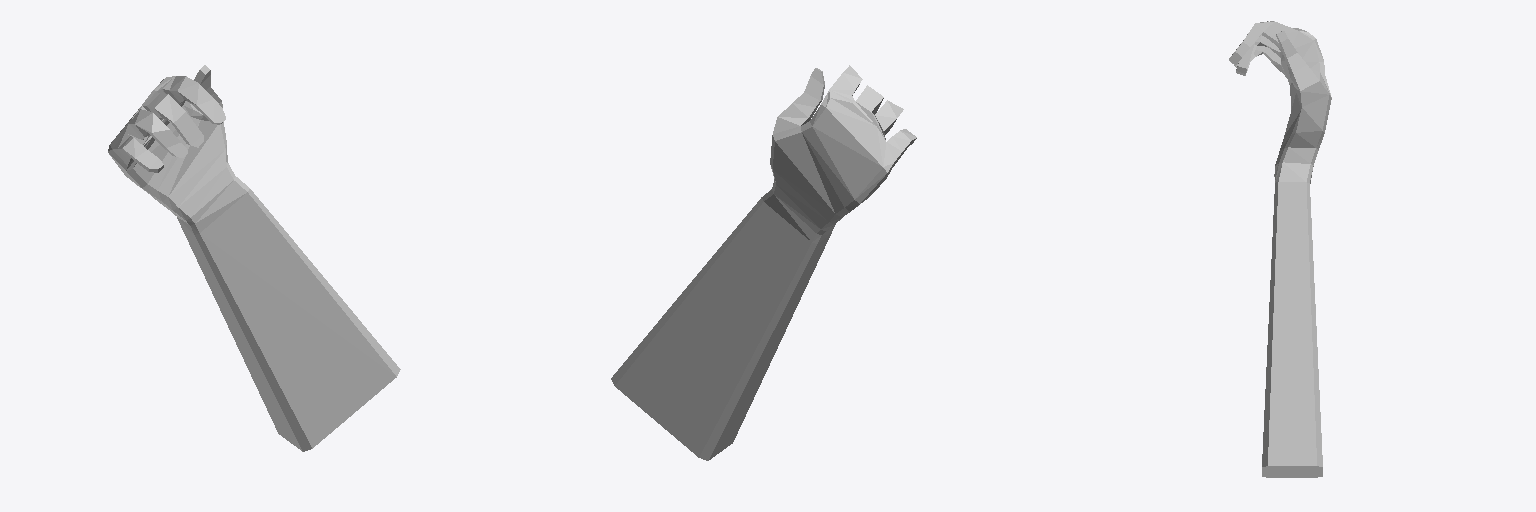
The model's file is hand_anim2.obj.
The picture shows the model from 3 angles: view 1: azimuth 30°, elevation 25°; view 2: azimuth 150°, elevation 25°; view 3: azimuth 270°, elevation 25°; orthographic projection.
Parts seen in each view (by area): view 1: Cube.001; view 2: Cube.001; view 3: Cube.001.
Part boxes in pixels (x1,y1,x2,y2): Cube.001: (108, 65, 400, 451); Cube.001: (611, 65, 916, 460); Cube.001: (1229, 21, 1331, 477).
Size of the model in its own units: 2.03 by 2.83 by 0.66.